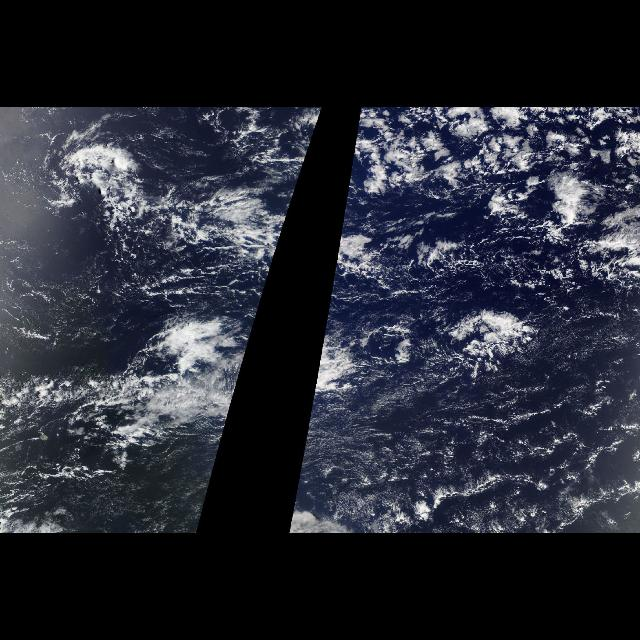Fish: (69, 149, 301, 277)
Flower: (333, 107, 632, 270), (416, 286, 588, 428), (294, 108, 324, 196)
Sugar: (294, 316, 638, 524), (130, 316, 256, 504)
